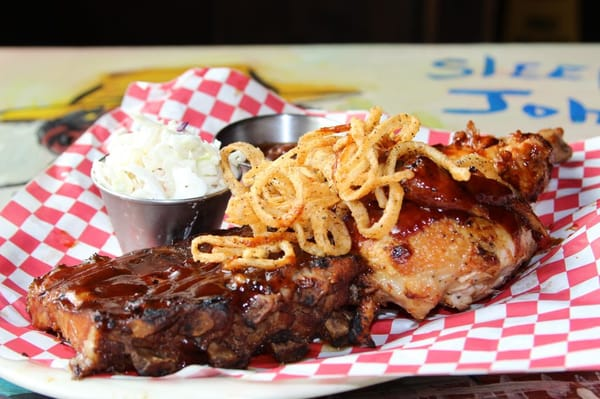sushi: (90, 110, 232, 255)
